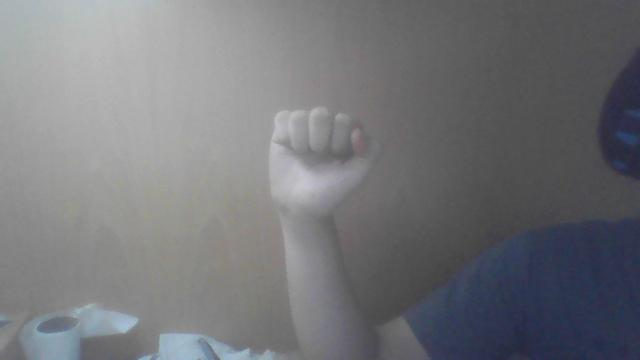forward: (267, 105, 381, 219)
